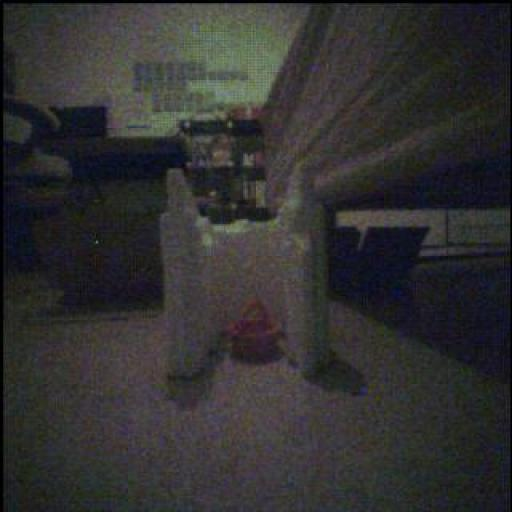basket: (228, 302, 283, 363)
